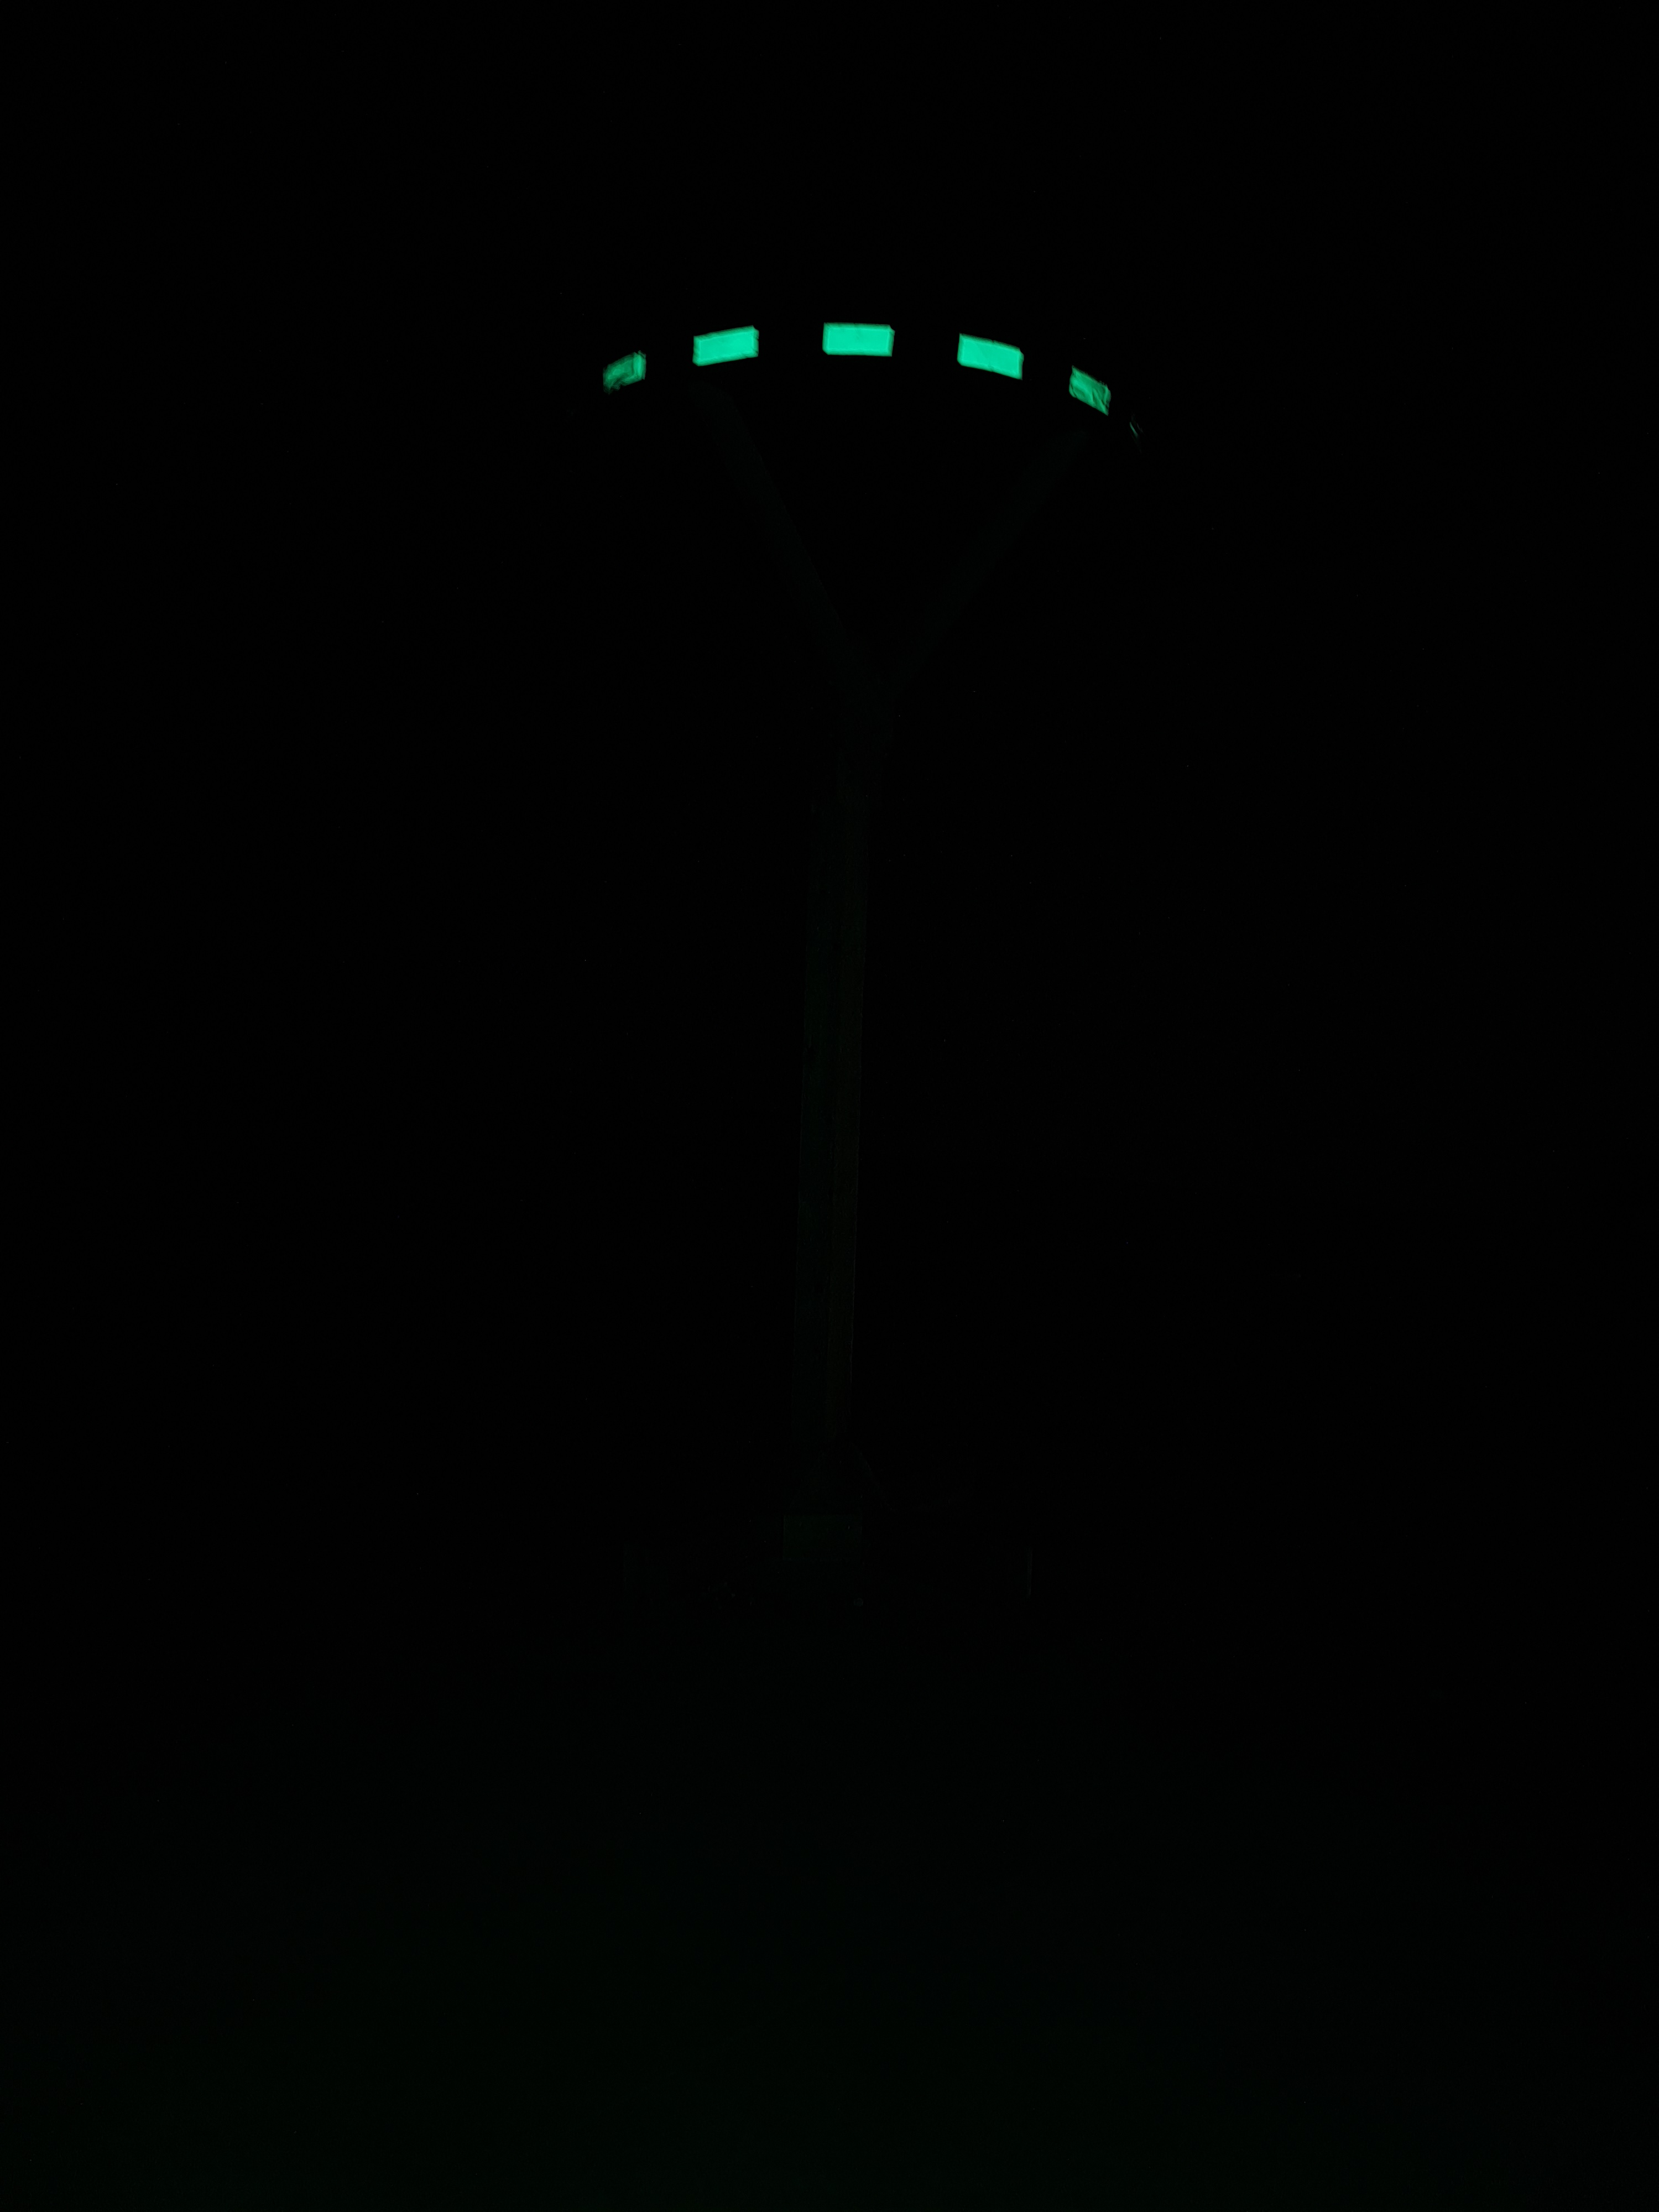hoop: (601, 322, 1112, 418)
